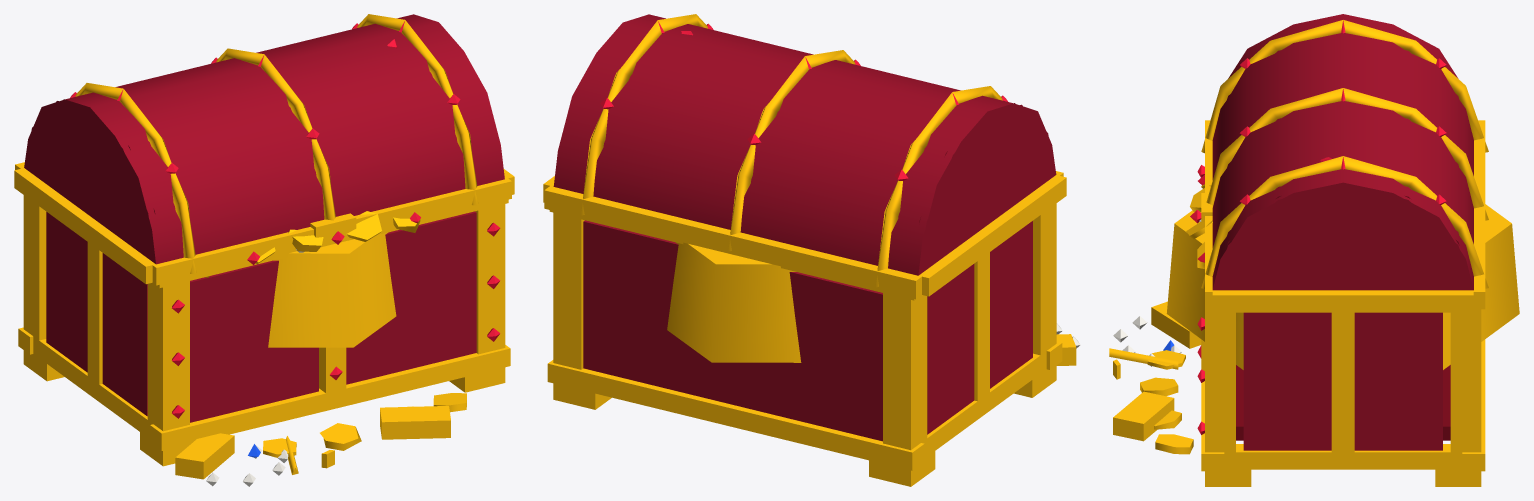
File: chest-common.glb
The picture shows the model from 3 angles, left to right: view 1: azimuth 30°, elevation 25°; view 2: azimuth 150°, elevation 25°; view 3: azimuth 270°, elevation 25°; orthographic projection. The views are drawn at different scales.
Parts seen in each view (by area): view 1: base, lid; view 2: lid, base; view 3: lid, base.
Boxes of the visible parts, x1,y1,x2,y2 form: base: [18, 39, 510, 486]; lid: [14, 14, 514, 285]; lid: [543, 14, 1066, 299]; base: [547, 31, 1080, 486]; lid: [1190, 14, 1488, 312]; base: [1109, 157, 1519, 486].
Bounding box in the file's own units: 1.1 × 0.91 × 1.07.
